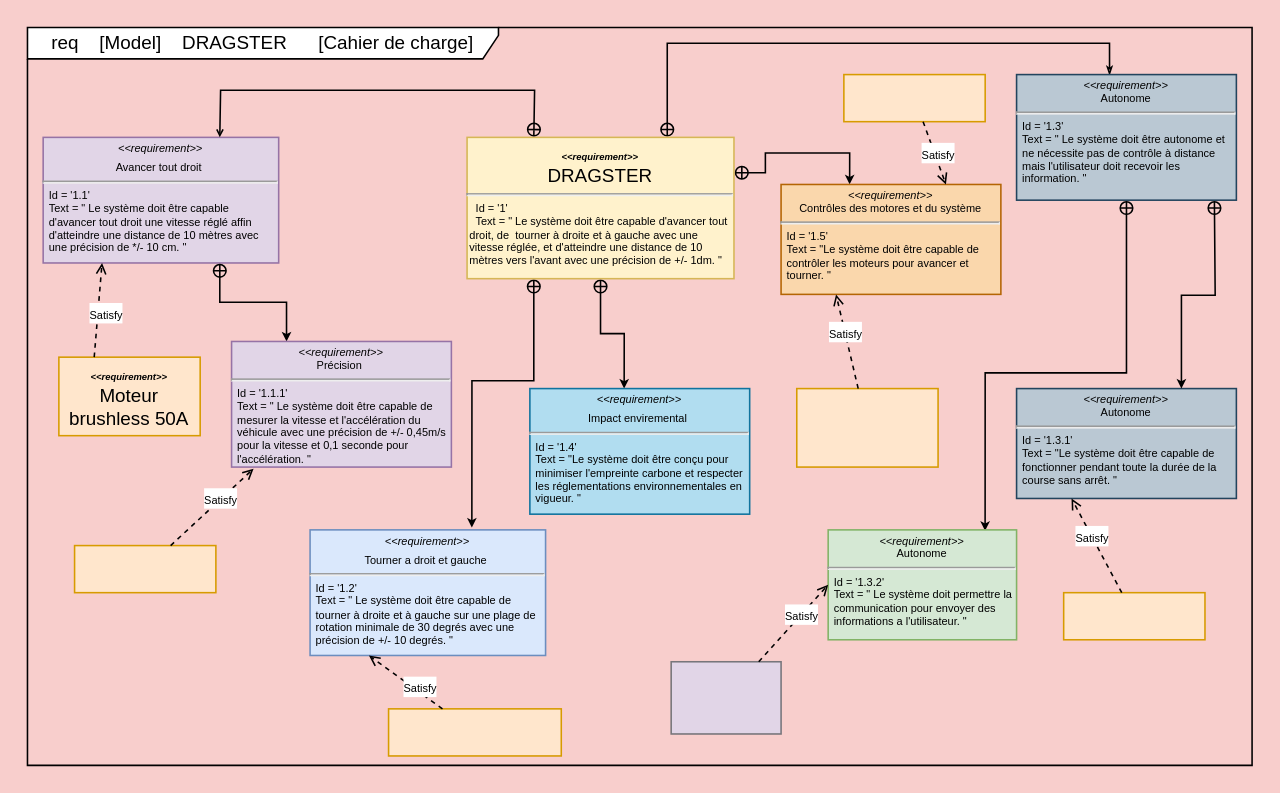
Some shapes in this 1280 by 793 pixel diagram are drawn without their labels. Each missing label, with the centre of its shape:
<<requirement>> accéléromètre: the point at 144,568
<<requirement>> Batterie 4S: the point at 1133,615
<<requirement>> Carte Nucleo STM32: the point at 866,427
<<requirement>> Dynamixel XL-320: the point at 474,731
<<requirement>> ESC: the point at 913,97
<<requirement>> Module ESP8266: the point at 725,697
